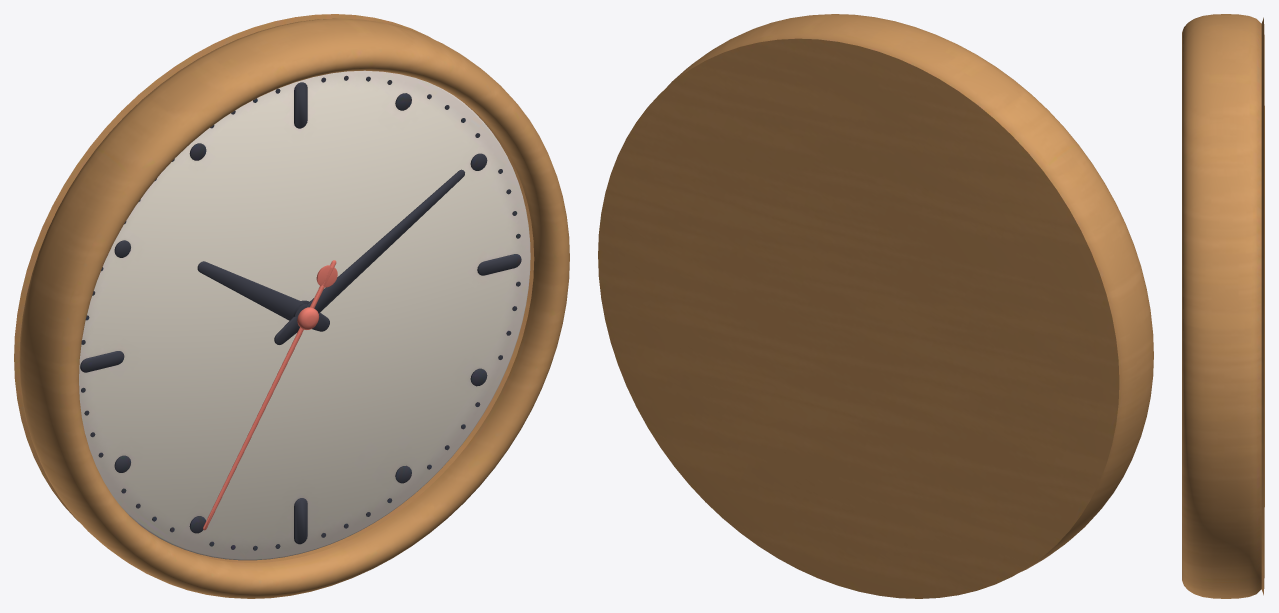
Rendered from wall-clock.glb.
3 views of the same model, side by side, from view 1: azimuth 30°, elevation 25°; view 2: azimuth 150°, elevation 25°; view 3: azimuth 270°, elevation 25° (orthographic). The views are drawn at different scales.
Visible parts, largest first — view 1: wall-clock_body, wall-clock_minute, wall-clock_hour, wall-clock_second; view 2: wall-clock_body; view 3: wall-clock_body.
Boxes of the visible parts, x1,y1,x2,y2 form: wall-clock_body: (14,14,569,598); wall-clock_minute: (274,169,464,344); wall-clock_hour: (197,261,329,331); wall-clock_second: (203,260,337,530); wall-clock_body: (598,14,1153,598); wall-clock_body: (1182,14,1264,598).
Bounding box in the file's own units: 0.301 × 0.301 × 0.0426.
Materials: 4 (4 with a texture image).
